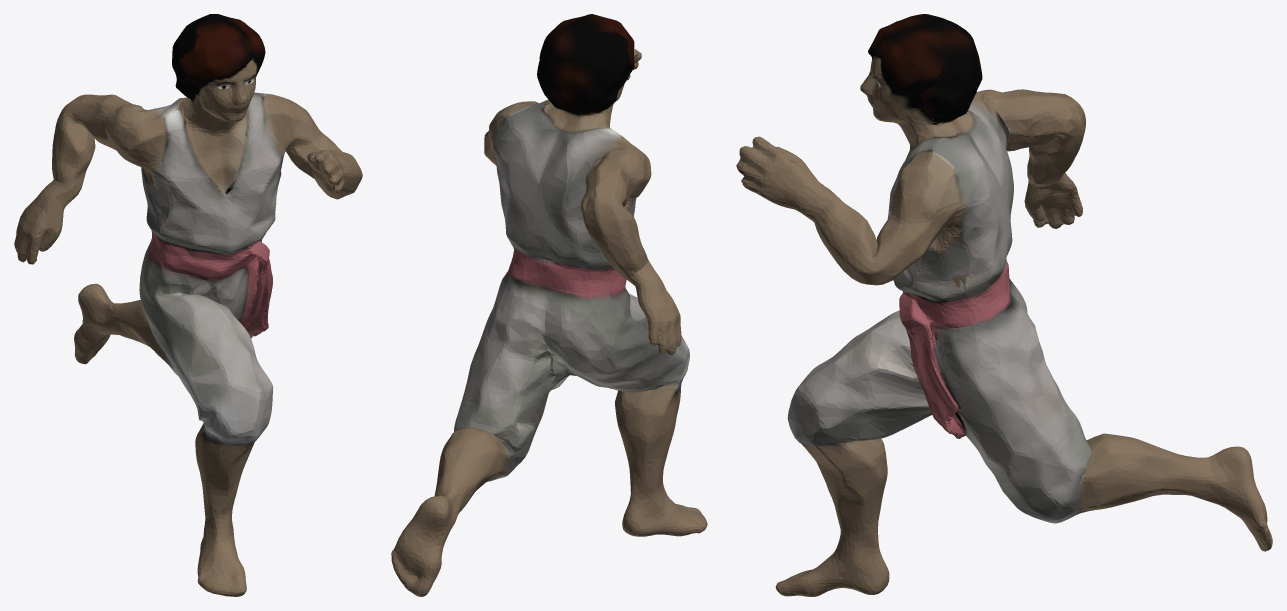
File: playernew.fbx
3 renders of one model, left to right at view 1: azimuth 30°, elevation 25°; view 2: azimuth 150°, elevation 25°; view 3: azimuth 270°, elevation 25°, orthographic. The views are drawn at different scales.
Visible parts, largest first — view 1: white_mesh; view 2: white_mesh; view 3: white_mesh.
Part boxes in pixels (x1,y1,x2,y2): white_mesh: (14, 14, 362, 596); white_mesh: (391, 14, 707, 596); white_mesh: (736, 14, 1272, 596).
Size of the model in its own units: 95.16 by 181 by 148.
